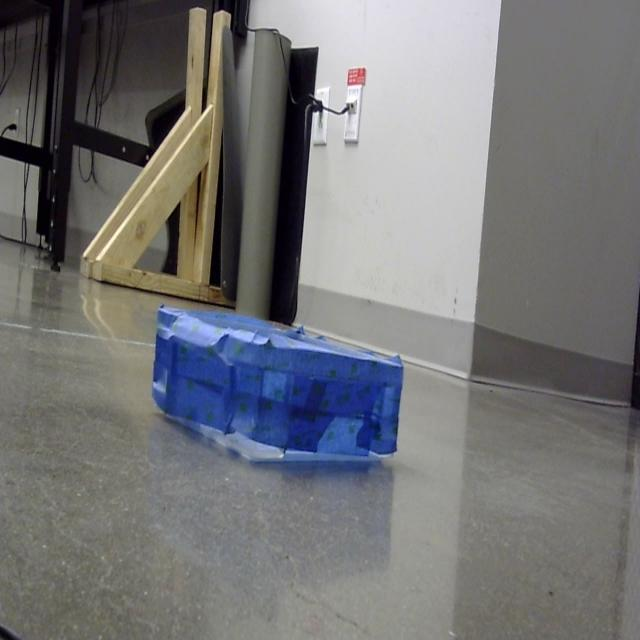bucket: (151, 308, 405, 468)
